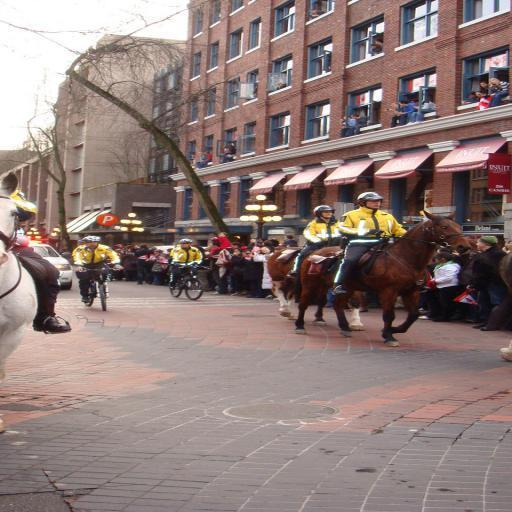horse: (304, 208, 474, 346), (262, 236, 366, 332)
